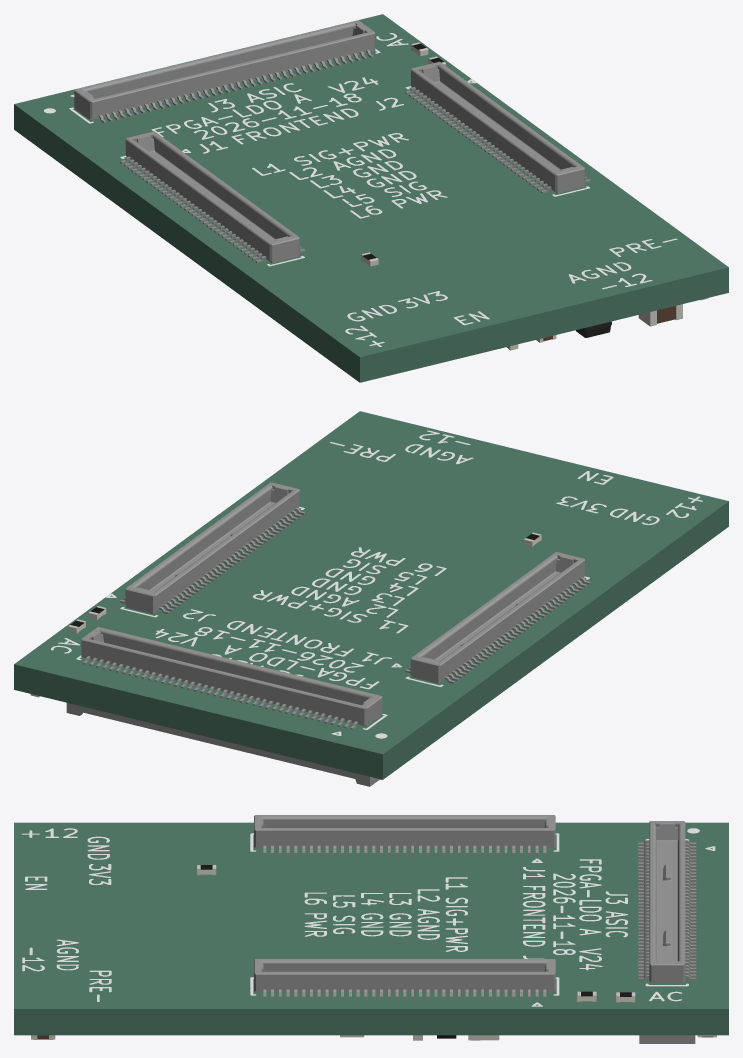
File: fpga-ldo-a-v24.glb
3 views of the same model, one above another, from view 1: azimuth 30°, elevation 25°; view 2: azimuth 150°, elevation 25°; view 3: azimuth 270°, elevation 25° (orthographic). The views are drawn at different scales.
Visible parts, largest first — view 1: =>[0:1:1:40], =>[0:1:1:5] (×2), =>[0:1:1:3], =>[0:1:1:38], =>[0:1:1:11]; view 2: =>[0:1:1:40], =>[0:1:1:5] (×2), =>[0:1:1:3], =>[0:1:1:38], =>[0:1:1:27]; view 3: =>[0:1:1:40], =>[0:1:1:5] (×2), =>[0:1:1:3], =>[0:1:1:38], =>[0:1:1:27].
Part boxes in pixels (x1,y1,x2,y2): =>[0:1:1:40]: [14, 14, 728, 382]; =>[0:1:1:5] (×2): [120, 61, 590, 263]; =>[0:1:1:3]: [74, 20, 375, 123]; =>[0:1:1:38]: [44, 33, 677, 346]; =>[0:1:1:11]: [638, 304, 682, 326]; =>[0:1:1:40]: [14, 411, 728, 779]; =>[0:1:1:5] (×2): [120, 482, 590, 683]; =>[0:1:1:3]: [81, 627, 382, 729]; =>[0:1:1:38]: [51, 430, 702, 738]; =>[0:1:1:27]: [66, 703, 379, 786]; =>[0:1:1:40]: [14, 822, 728, 1035]; =>[0:1:1:5] (×2): [254, 815, 555, 998]; =>[0:1:1:3]: [638, 821, 696, 983]; =>[0:1:1:38]: [22, 828, 715, 1006]; =>[0:1:1:27]: [639, 1035, 695, 1043].
Size of the model in its own units: 0.0226 by 0.0044 by 0.0368.
